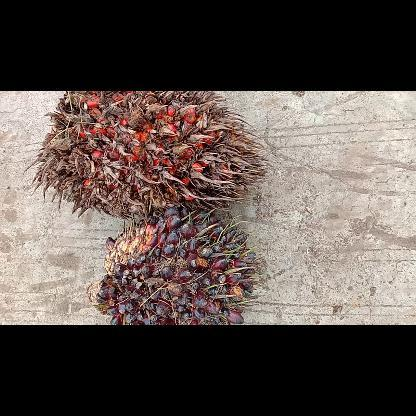TBS mentah: (86, 206, 262, 324)
Terlalu masak: (25, 90, 269, 220)
